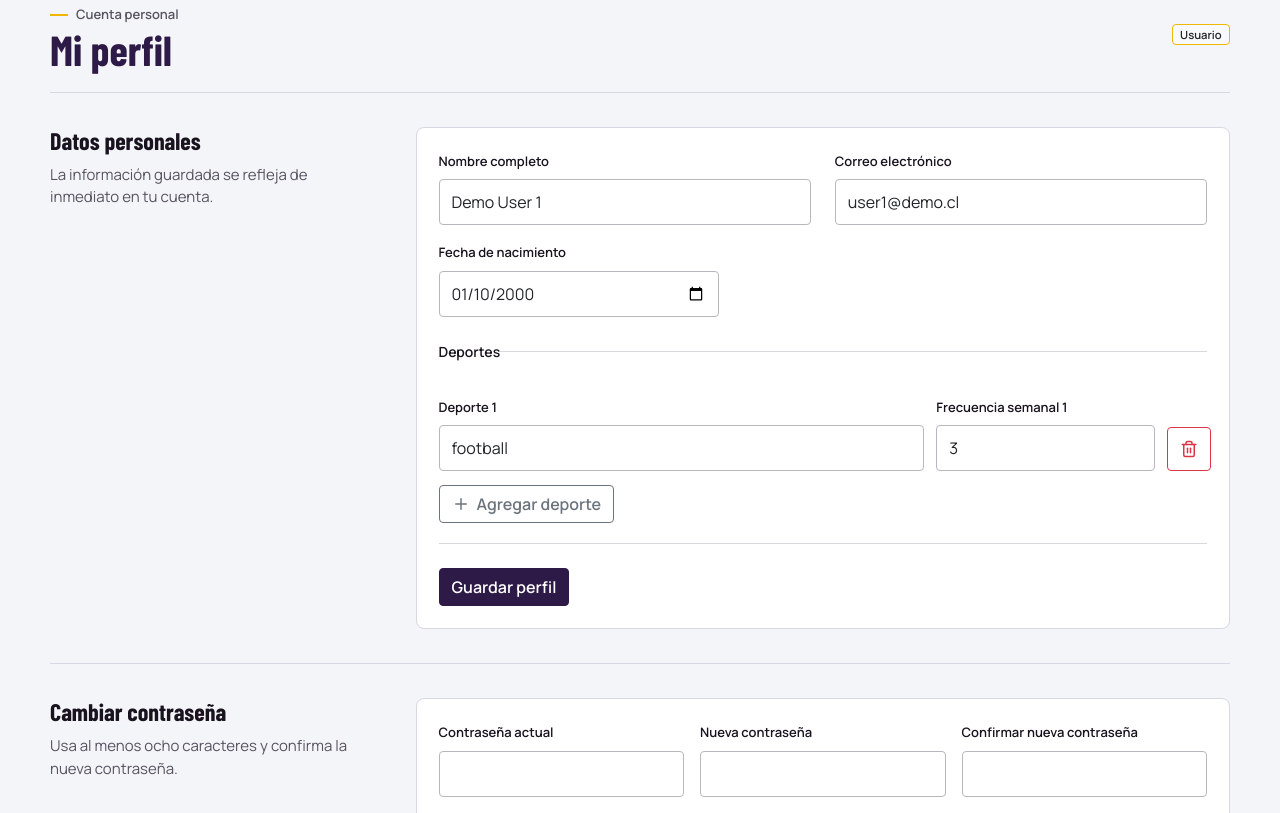
Scenario: ProfilePage › updates the profile and refreshes auth context immediately
This screenshot has width=1280, height=813.
Replace the text in the field labelled "Nombre completo" with "Nombre Actualizado": coordinates (625, 202) x1=438 y1=179 x2=811 y2=225
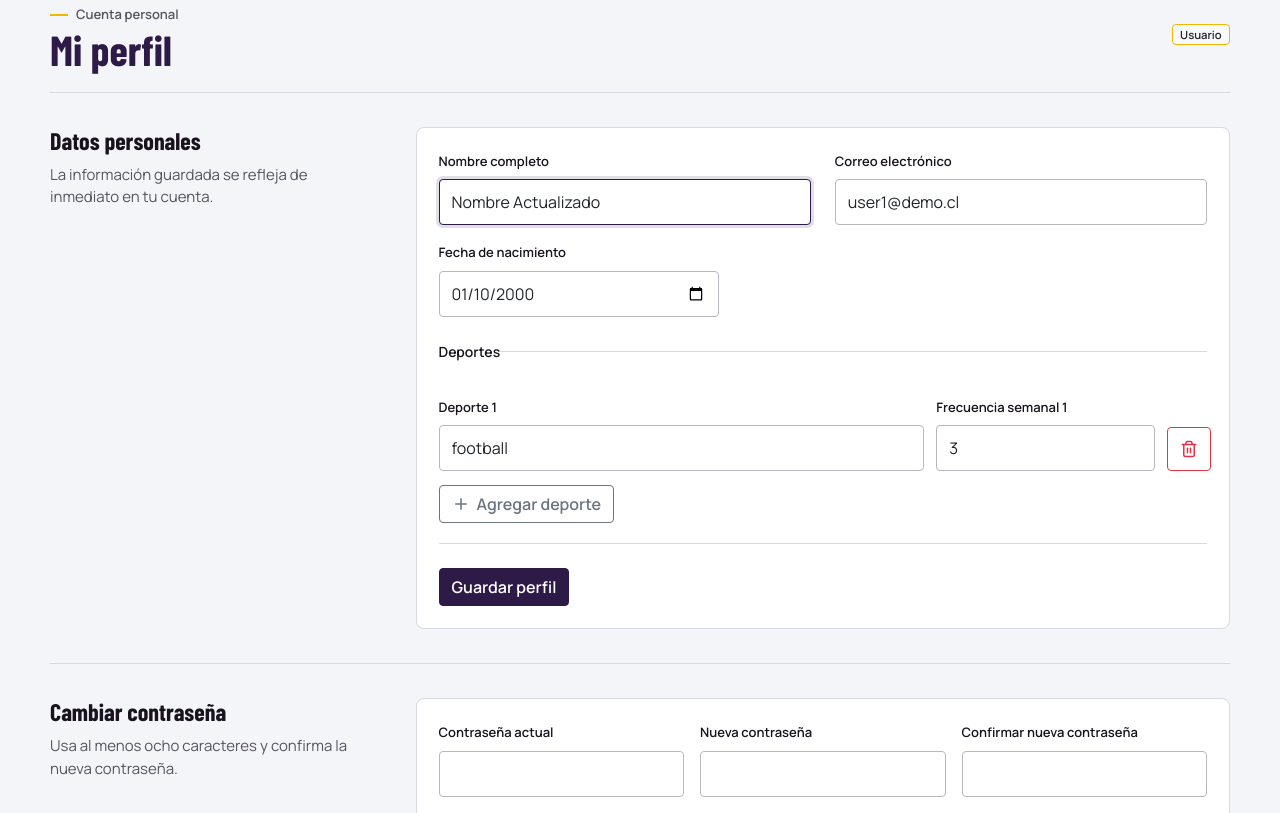
Click the button "Guardar perfil": coordinates (504, 587) x1=438 y1=568 x2=569 y2=606
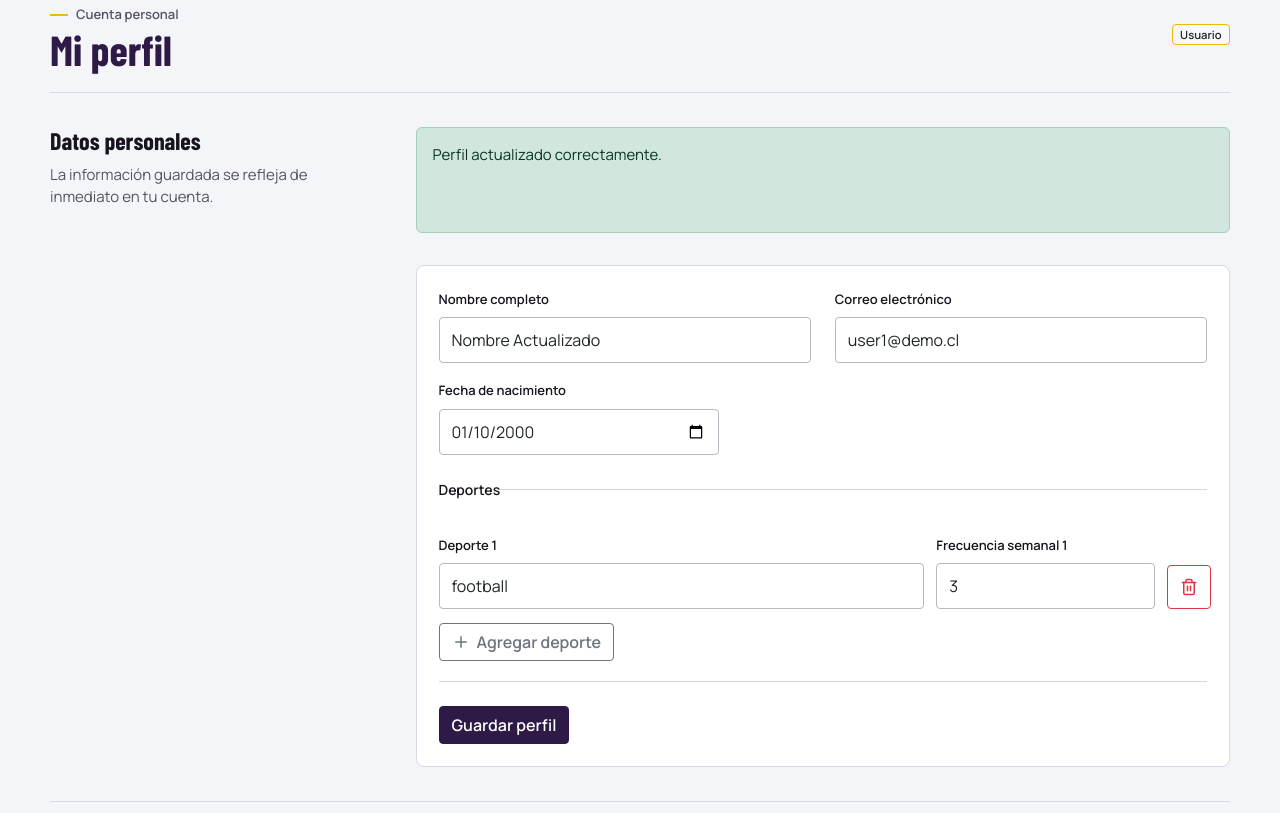
expect the text "Perfil actualizado correctamente." is shown: met, box x1=416 y1=127 x2=1230 y2=233
